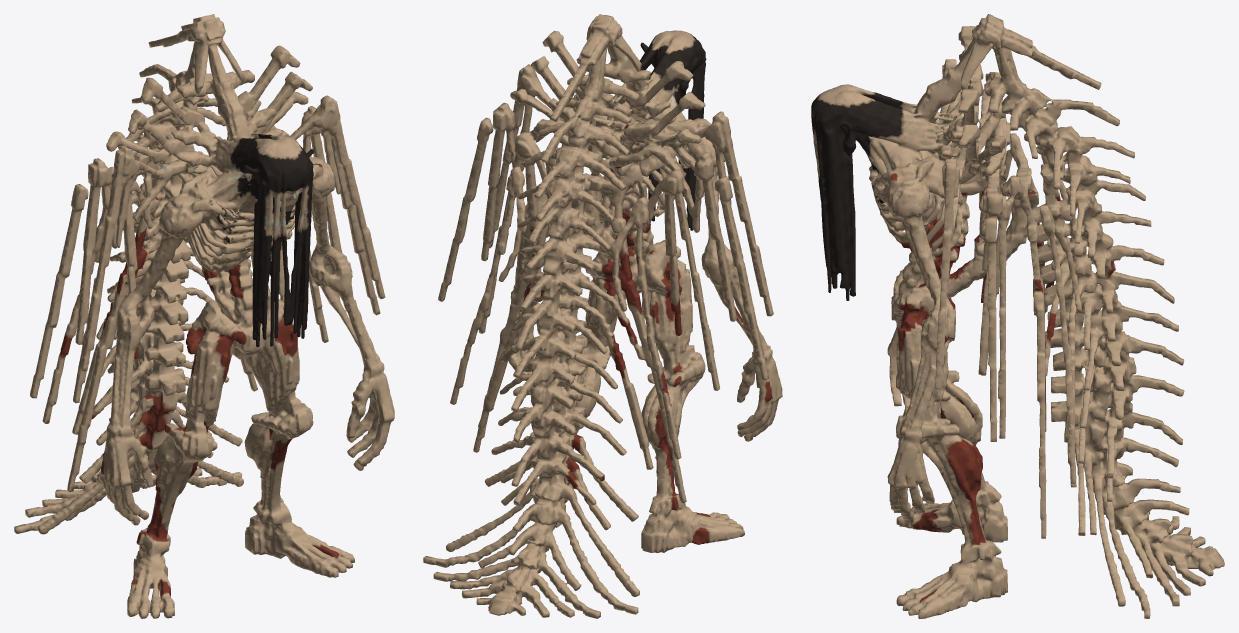
File: founding_titan.glb
3 renders of one model, left to right at view 1: azimuth 30°, elevation 25°; view 2: azimuth 150°, elevation 25°; view 3: azimuth 270°, elevation 25°, orthographic. The views are drawn at different scales.
Visible parts, largest first — view 1: world; view 2: world; view 3: world.
Part boxes in pixels (<box>): world: <box>14,14,394,618</box>; world: <box>423,14,782,618</box>; world: <box>811,14,1224,618</box>.
Bounding box in the file's own units: 1.26 × 1.9 × 1.3.
